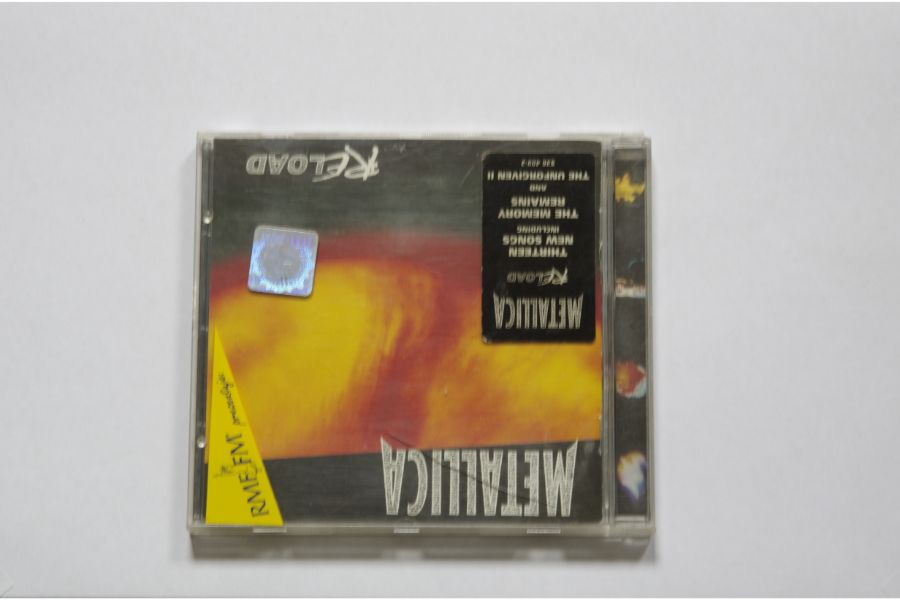album: (187, 133, 656, 544)
